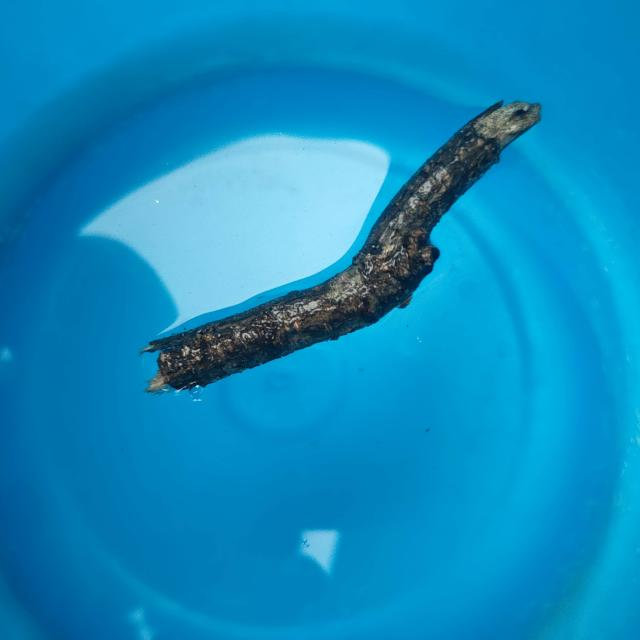wood: (128, 82, 562, 407)
